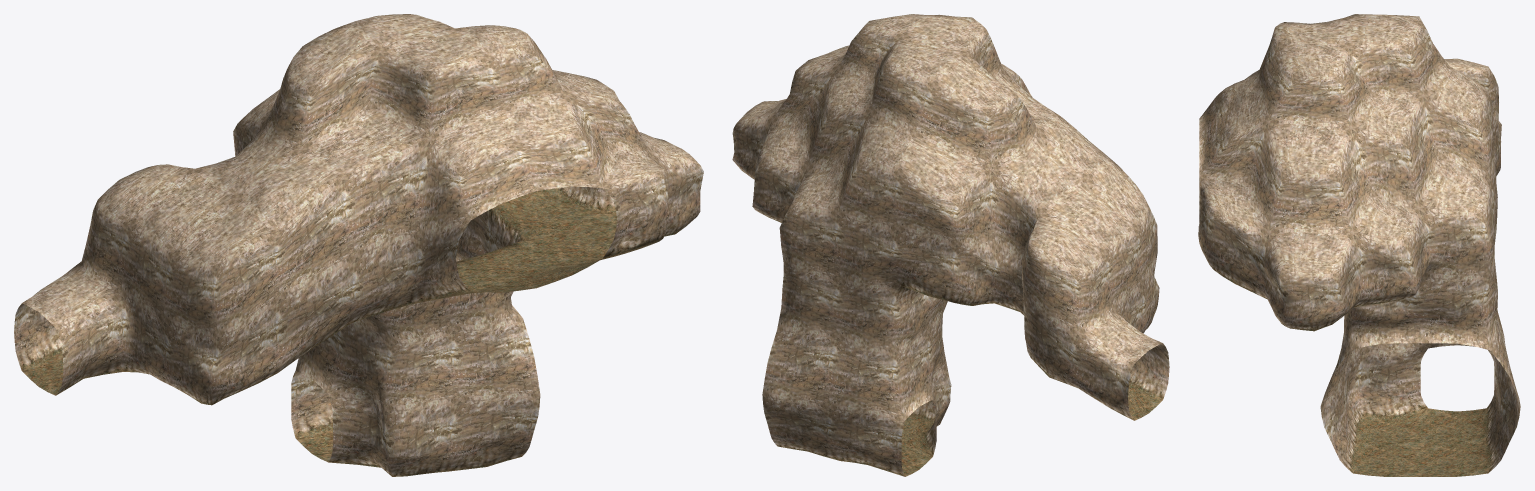
File: thm_all_cave_flatland_s03_r22_mesh_r22.fbx
3 views of the same model, side by side, from view 1: azimuth 30°, elevation 25°; view 2: azimuth 150°, elevation 25°; view 3: azimuth 270°, elevation 25° (orthographic). The views are drawn at different scales.
Parts seen in each view (by area): view 1: mesh_node; view 2: mesh_node; view 3: mesh_node.
Boxes of the visible parts, left/top/right/bottom form: mesh_node: left=14, top=14, right=703, bottom=476; mesh_node: left=732, top=14, right=1169, bottom=476; mesh_node: left=1198, top=14, right=1520, bottom=476.
Bounding box in the file's own units: 63.36 × 48.59 × 34.97.
